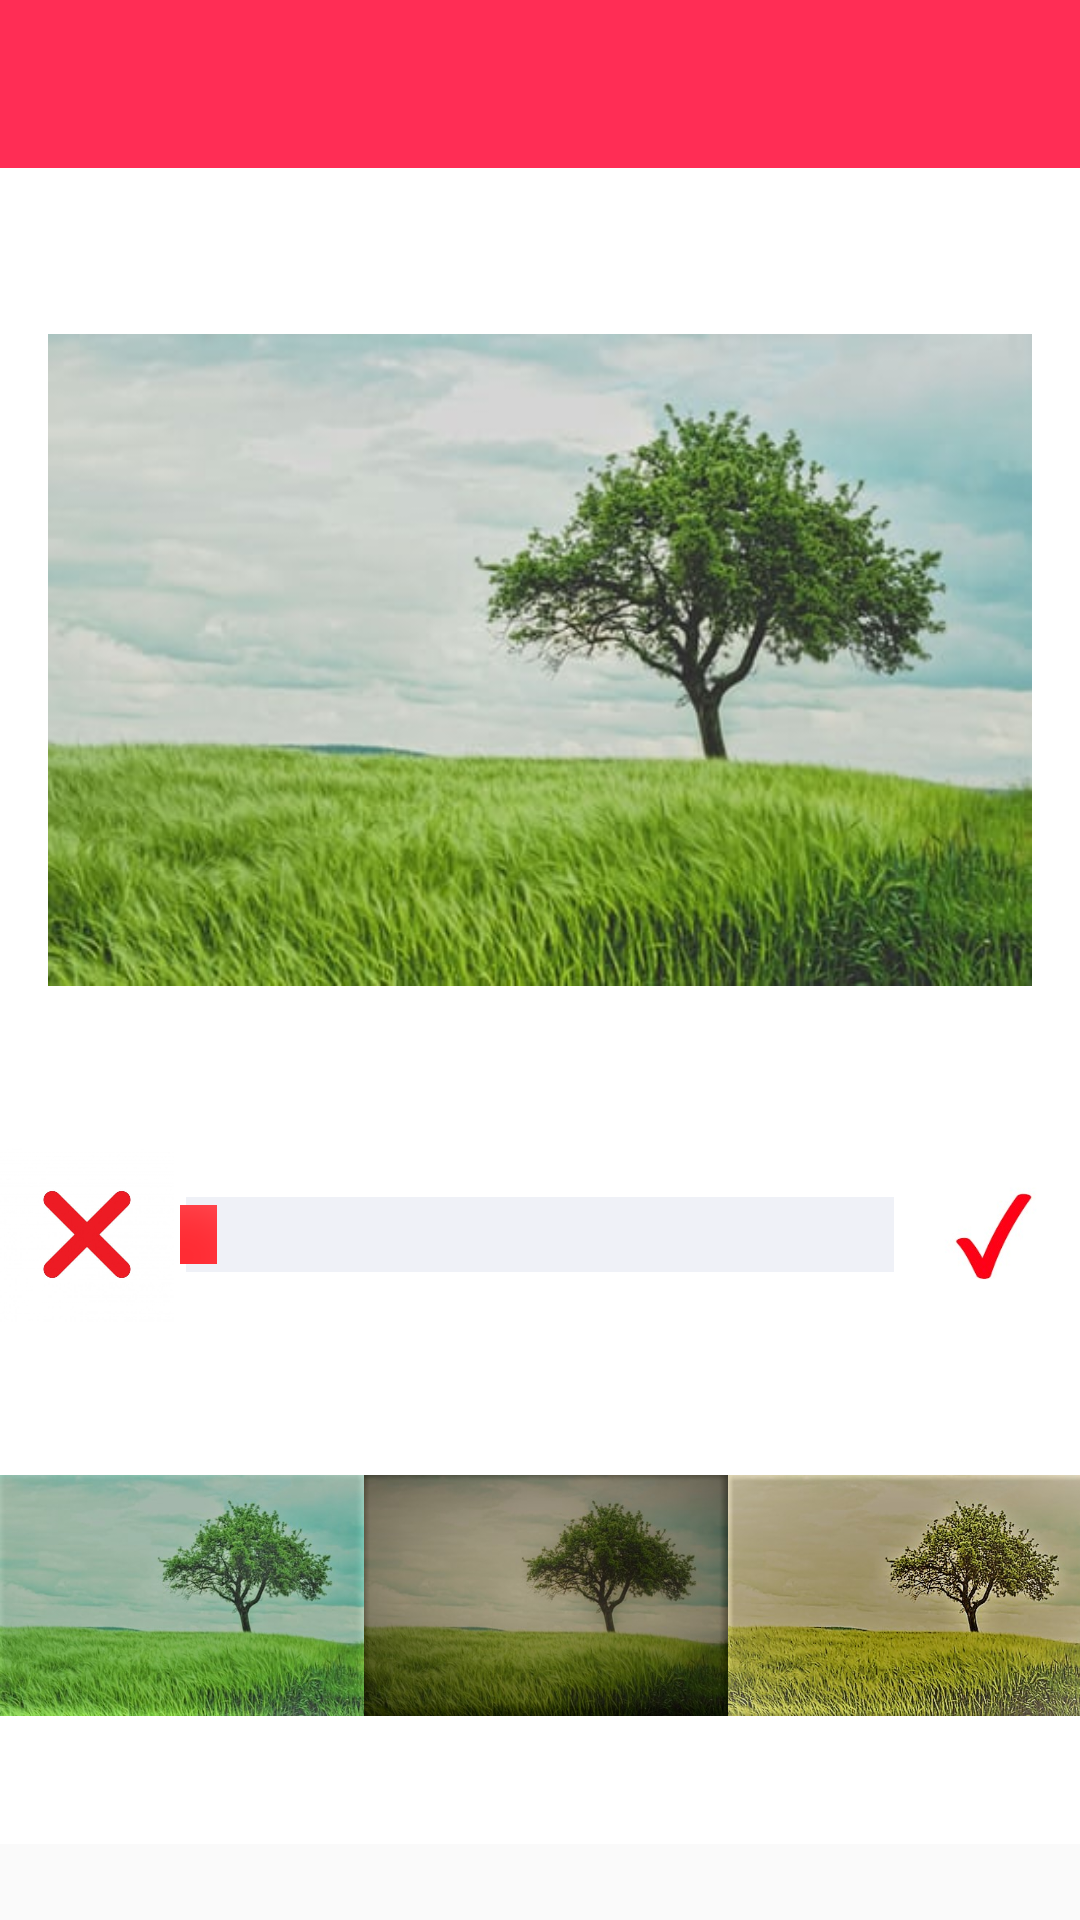

Icon click points for this 1080px×1920px phone screenshot, format point (x, y):
tick: point (994, 1236)
wrong: point (87, 1234)
